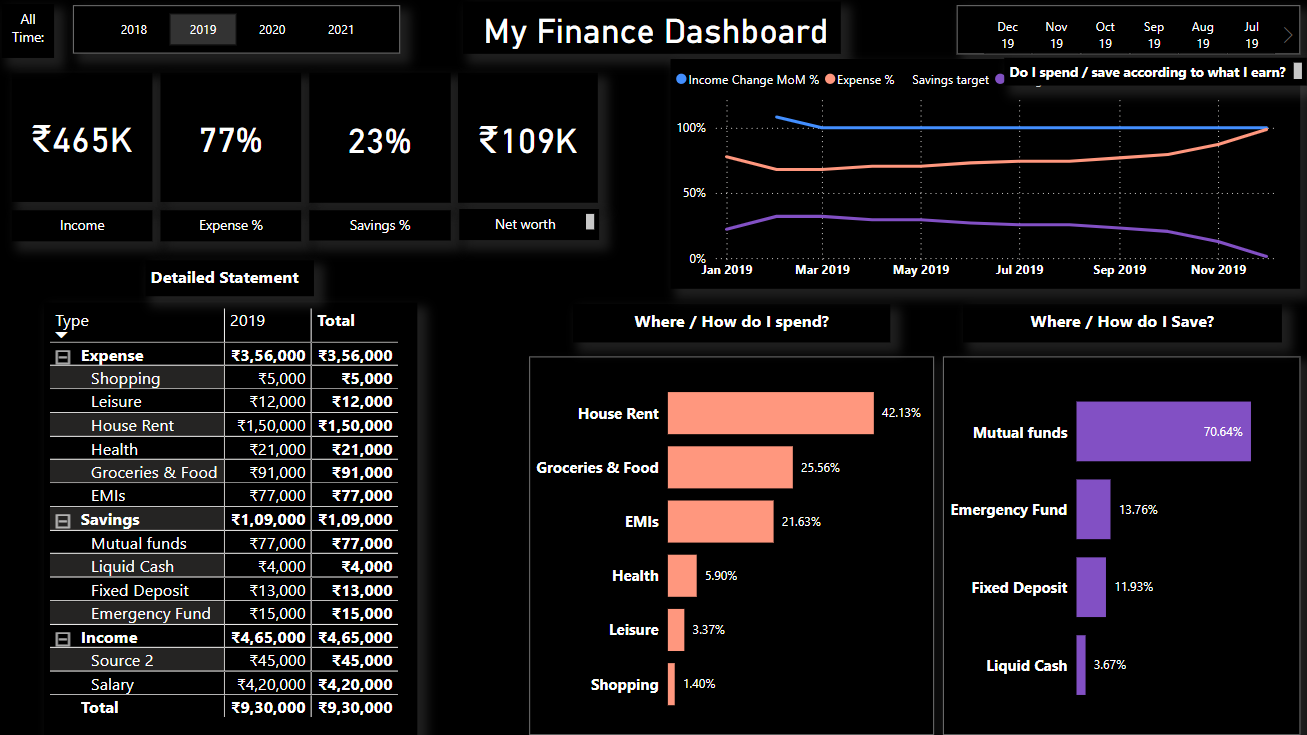

The dashboard page shown, as its layout file describes it:
{"tool":"powerbi","page":{"name":"Fin Dashboard","canvas":[1280,720],"ordinal":0},"visuals":[{"type":"card","fields":{"Values":["Key Measures.Total Income"]},"box":[13.5,72.1,137.6,126.7],"z":0},{"type":"card","fields":{"Values":["Key Measures.Expense %"]},"box":[159,72.1,137.6,126.7],"z":1000},{"type":"card","fields":{"Values":["Key Measures.Savings %"]},"box":[304.9,72,138.2,127.2],"z":2000},{"type":"card","fields":{"Values":["Key Measures.Total Saving"]},"box":[450.4,72,137,127.2],"z":3000},{"type":"textbox","box":[13.8,206.2,137.5,30],"z":4000},{"type":"textbox","box":[158.8,206.2,137.5,30],"z":5000},{"type":"textbox","box":[304.9,206.5,138.2,29.3],"z":6000},{"type":"textbox","box":[451.6,205,137,30.6],"z":7000},{"type":"slicer","fields":{"Values":["FinData.Year"]},"box":[73.8,6.2,320,47.5],"z":8000},{"type":"slicer","fields":{"Values":["FinData.Date"]},"box":[937.9,6.1,336.3,47.7],"z":9000},{"type":"textbox","box":[3.8,5,51.2,52.5],"z":14000},{"type":"card","fields":{"Values":["Key Measures.Title"]},"box":[454.9,2.4,369.3,51.4],"z":15000},{"type":"clusteredBarChart","fields":{"Category":["FinData.Component"],"Y":["Key Measures.Total Expense"]},"box":[520,350,395.8,370],"z":16000},{"type":"textbox","box":[562.5,298.4,310.6,37.9],"z":17000},{"type":"clusteredBarChart","fields":{"Category":["FinData.Component"],"Y":["Key Measures.Total Saving"]},"box":[924.5,349.7,349.7,370.5],"z":18000},{"type":"textbox","box":[944,298.4,311.8,37.9],"z":19000},{"type":"lineChart","fields":{"Y":["Key Measures.Income Change MoM %","Key Measures.Expense %","Key Measures.Savings target","Key Measures.Savings %"],"Category":["FinData.Date"]},"box":[657.9,58.7,616.3,225],"z":20000},{"type":"textbox","box":[984.4,57.5,295.9,26.9],"z":21000},{"type":"pivotTable","fields":{"Values":["Key Measures.Values"],"Columns":["FinData.Year","FinData.Date"],"Rows":["Type.Type","FinData.Component"]},"box":[45.2,297.1,364.4,423.1],"z":22000},{"type":"textbox","box":[144.3,255.6,165.1,35.5],"z":23000}]}

Visuals, with their boxes in screenshot pixels (x1, y1, x2, y2), scaled from the page's 1280x720 canvas onto the 1307x735 screenshot:
card - Key Measures.Total Income: [left=14, top=74, right=154, bottom=203]
card - Key Measures.Expense %: [left=162, top=74, right=303, bottom=203]
card - Key Measures.Savings %: [left=311, top=74, right=452, bottom=203]
card - Key Measures.Total Saving: [left=460, top=74, right=600, bottom=203]
textbox: [left=14, top=210, right=154, bottom=241]
textbox: [left=162, top=210, right=303, bottom=241]
textbox: [left=311, top=211, right=452, bottom=241]
textbox: [left=461, top=209, right=601, bottom=241]
slicer - FinData.Year: [left=75, top=6, right=402, bottom=55]
slicer - FinData.Date: [left=958, top=6, right=1301, bottom=55]
textbox: [left=4, top=5, right=56, bottom=59]
card - Key Measures.Title: [left=464, top=2, right=842, bottom=55]
clusteredBarChart - FinData.Component x Key Measures.Total Expense: [left=531, top=357, right=935, bottom=734]
textbox: [left=574, top=305, right=892, bottom=343]
clusteredBarChart - FinData.Component x Key Measures.Total Saving: [left=944, top=357, right=1301, bottom=734]
textbox: [left=964, top=305, right=1282, bottom=343]
lineChart - Key Measures.Income Change MoM % x Key Measures.Expense %: [left=672, top=60, right=1301, bottom=290]
textbox: [left=1005, top=59, right=1306, bottom=86]
pivotTable - Key Measures.Values x FinData.Year: [left=46, top=303, right=418, bottom=734]
textbox: [left=147, top=261, right=316, bottom=297]
